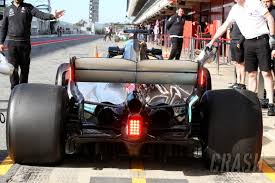f1_car: (3, 25, 266, 178)
